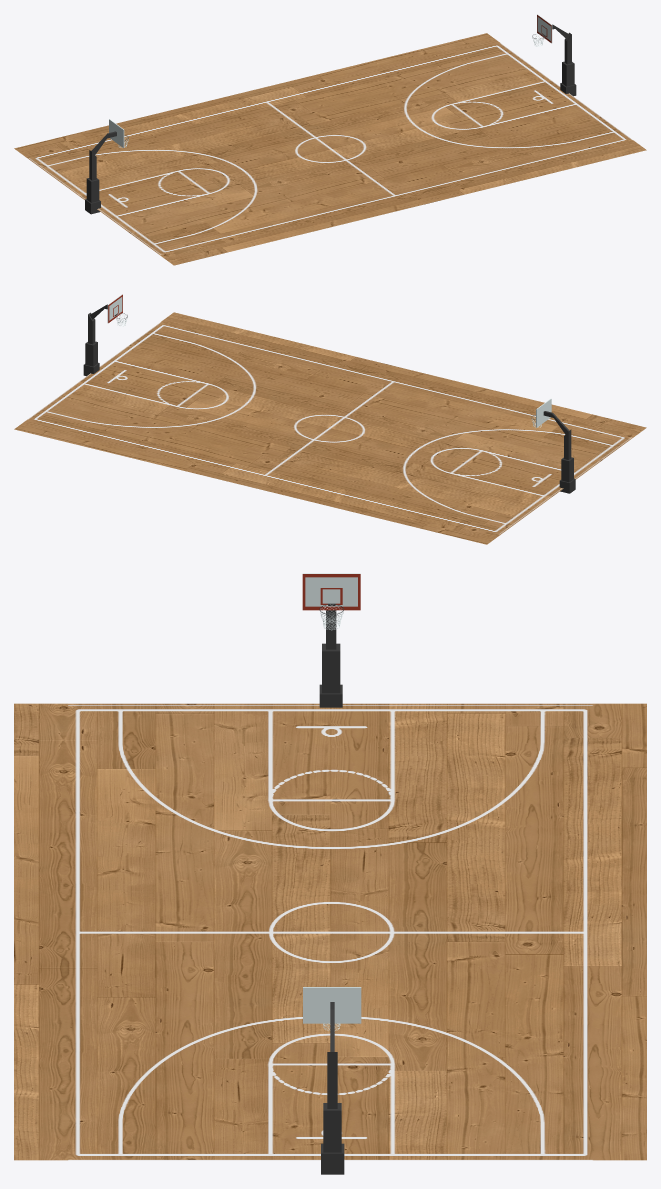
Rendered from Basketball Court.fbx.
The picture shows the model from 3 angles, top to bottom: view 1: azimuth 30°, elevation 25°; view 2: azimuth 150°, elevation 25°; view 3: azimuth 270°, elevation 25°; orthographic projection. The views are drawn at different scales.
Visible parts, largest first — view 1: Court, Stand, Stand.001; view 2: Court, Stand, Stand.001; view 3: Court, Stand.001, Stand.
Boxes of the visible parts, x1=… form: Court: x1=14, y1=33, x2=646, y2=265; Stand: x1=85, y1=119, x2=128, y2=214; Stand.001: x1=532, y1=14, x2=576, y2=96; Court: x1=14, y1=312, x2=646, y2=544; Stand: x1=531, y1=398, x2=575, y2=493; Stand.001: x1=83, y1=294, x2=127, y2=376; Court: x1=14, y1=703, x2=646, y2=1160; Stand.001: x1=303, y1=987, x2=361, y2=1174; Stand: x1=302, y1=573, x2=360, y2=707.
Size of the model in its own units: 8550 by 1358 by 4877.
Materials: 4 (1 with a texture image).
